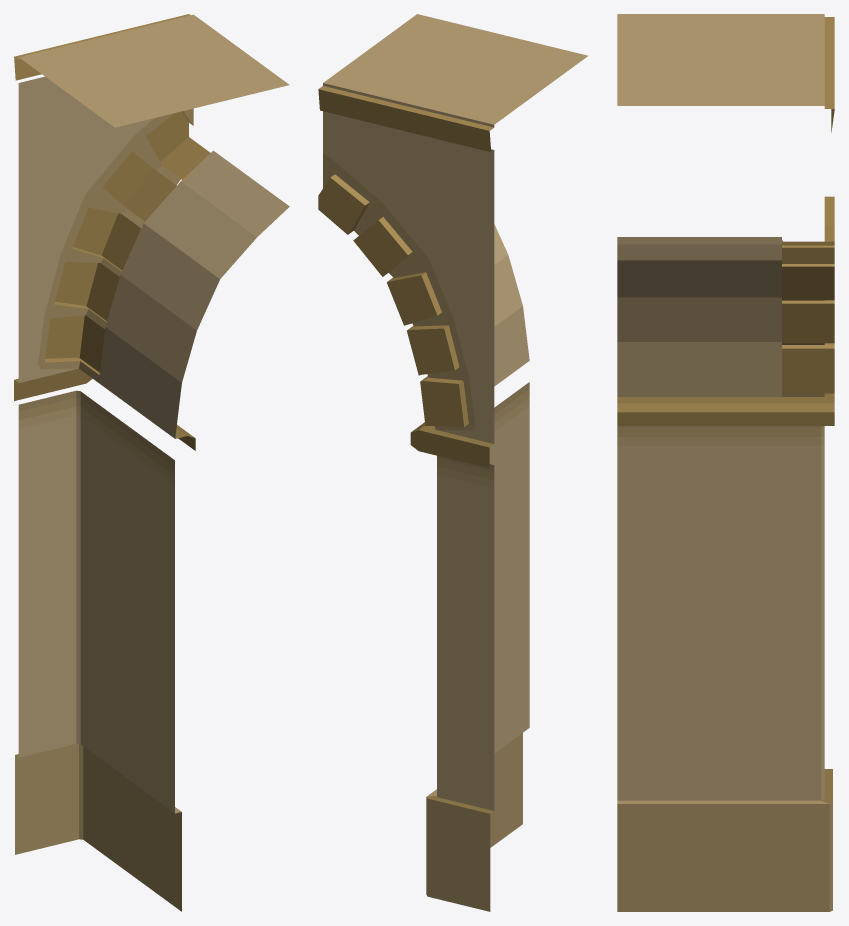
3 views of the same model, side by side, from view 1: azimuth 30°, elevation 25°; view 2: azimuth 150°, elevation 25°; view 3: azimuth 270°, elevation 25° (orthographic). The views are drawn at different scales.
Size of the model in its own units: 1 by 4.38 by 1.
